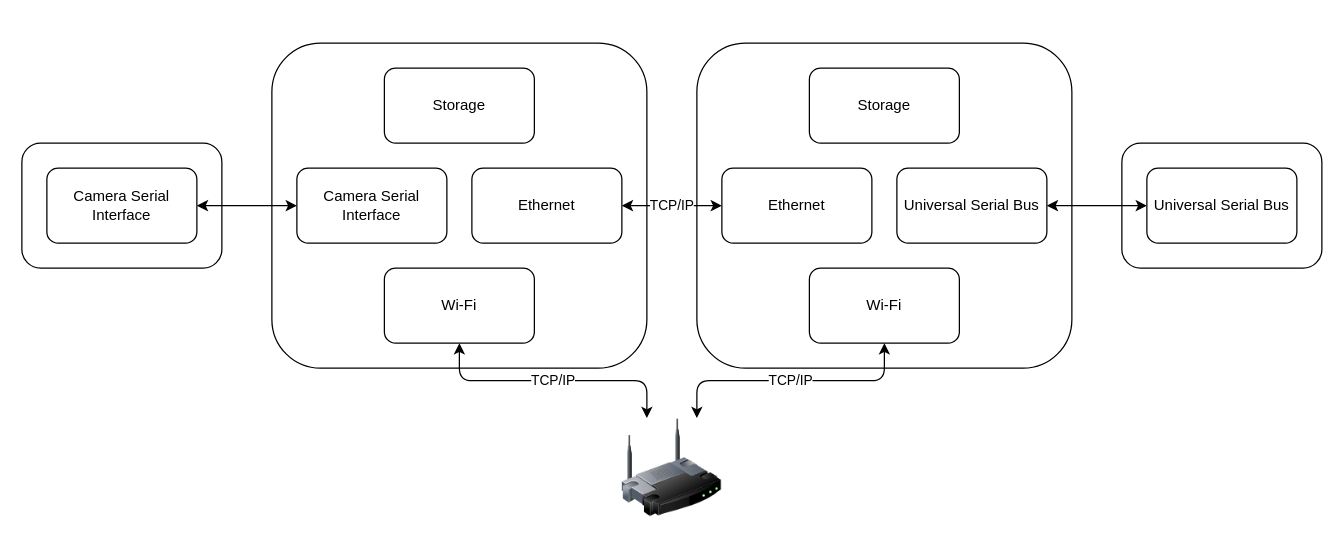
Image size: 1344x540. Some labels were removed from this diagram. The box of each missing label's shape, as (x1, y1, x2, y2) in pixels:
Camera: (1121, 142, 1322, 268)
Imaging System Computer: (696, 42, 1072, 368)
Scoring System Computer: (271, 42, 647, 368)
User Interface Touchscreen: (21, 142, 222, 268)
